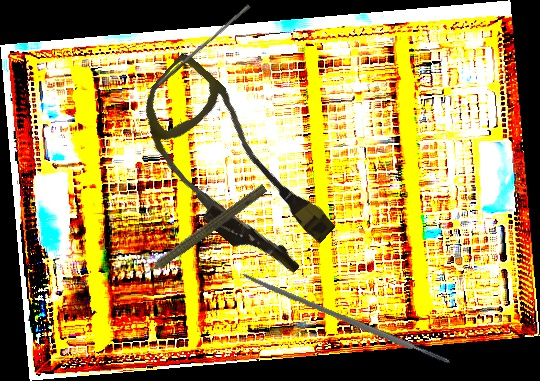Cannula: (108, 50, 356, 289)
Handpiece: (129, 178, 270, 288)
Pusher: (157, 1, 251, 90)
Scalpel Handle: (240, 271, 453, 368)
